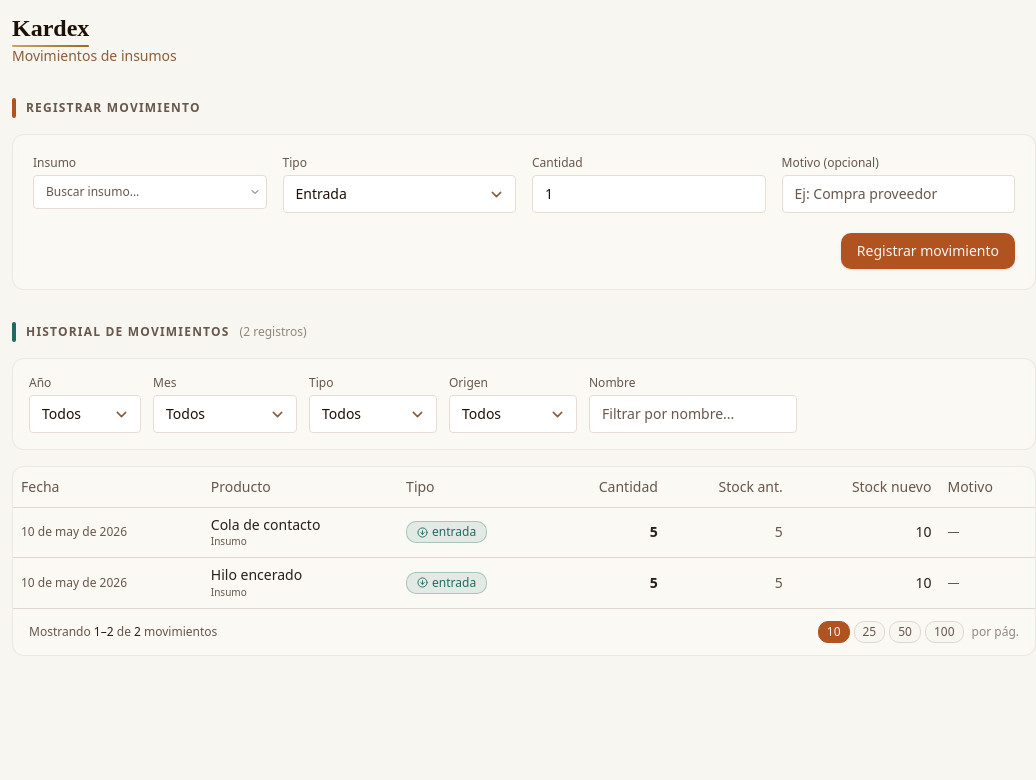
Test: KardexView — filtros del historial › filtra por nombre
Expected: the text "Cola de contacto" is shown, 211,514 -> 320,534
In the field with placeholder "Filtrar por nombre...": (693, 414) 589,395 -> 797,433, type "Hilo"
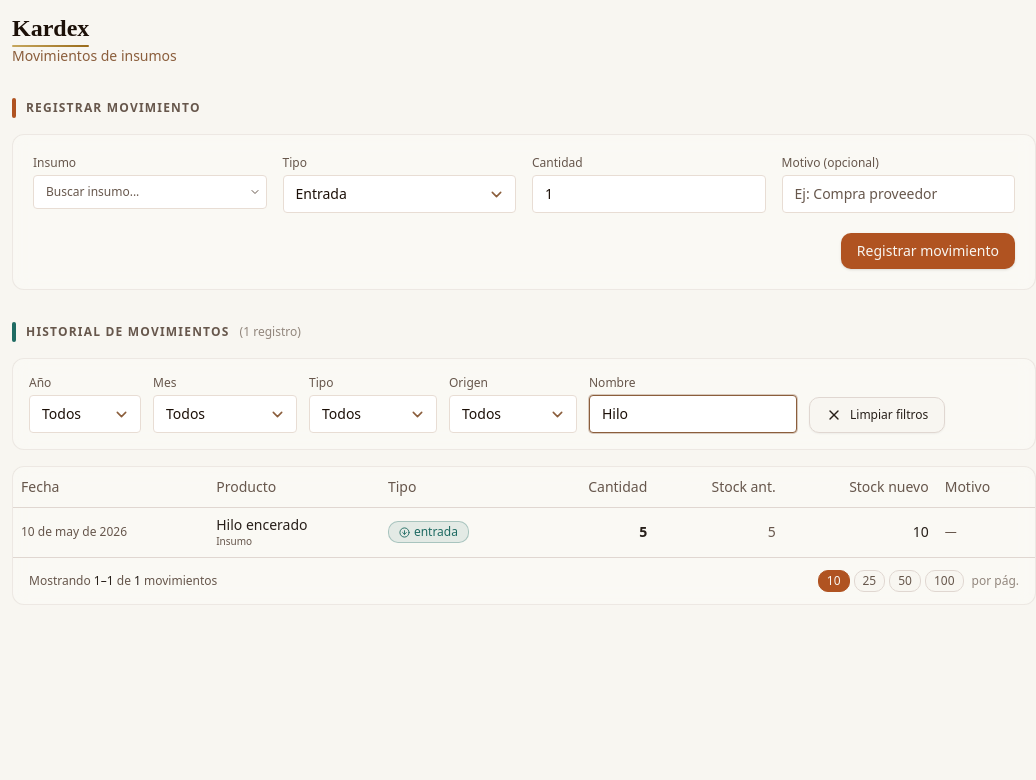
Expected: the text "Hilo encerado" is shown, 216,514 -> 308,534
Now the text "Cola de contacto" is gone
